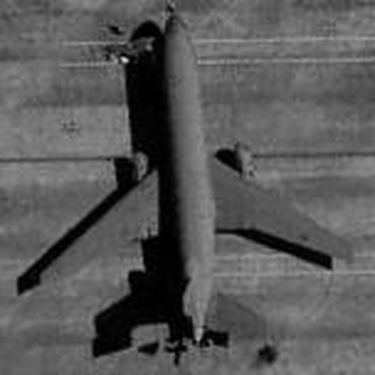airplane: (7, 4, 351, 356)
